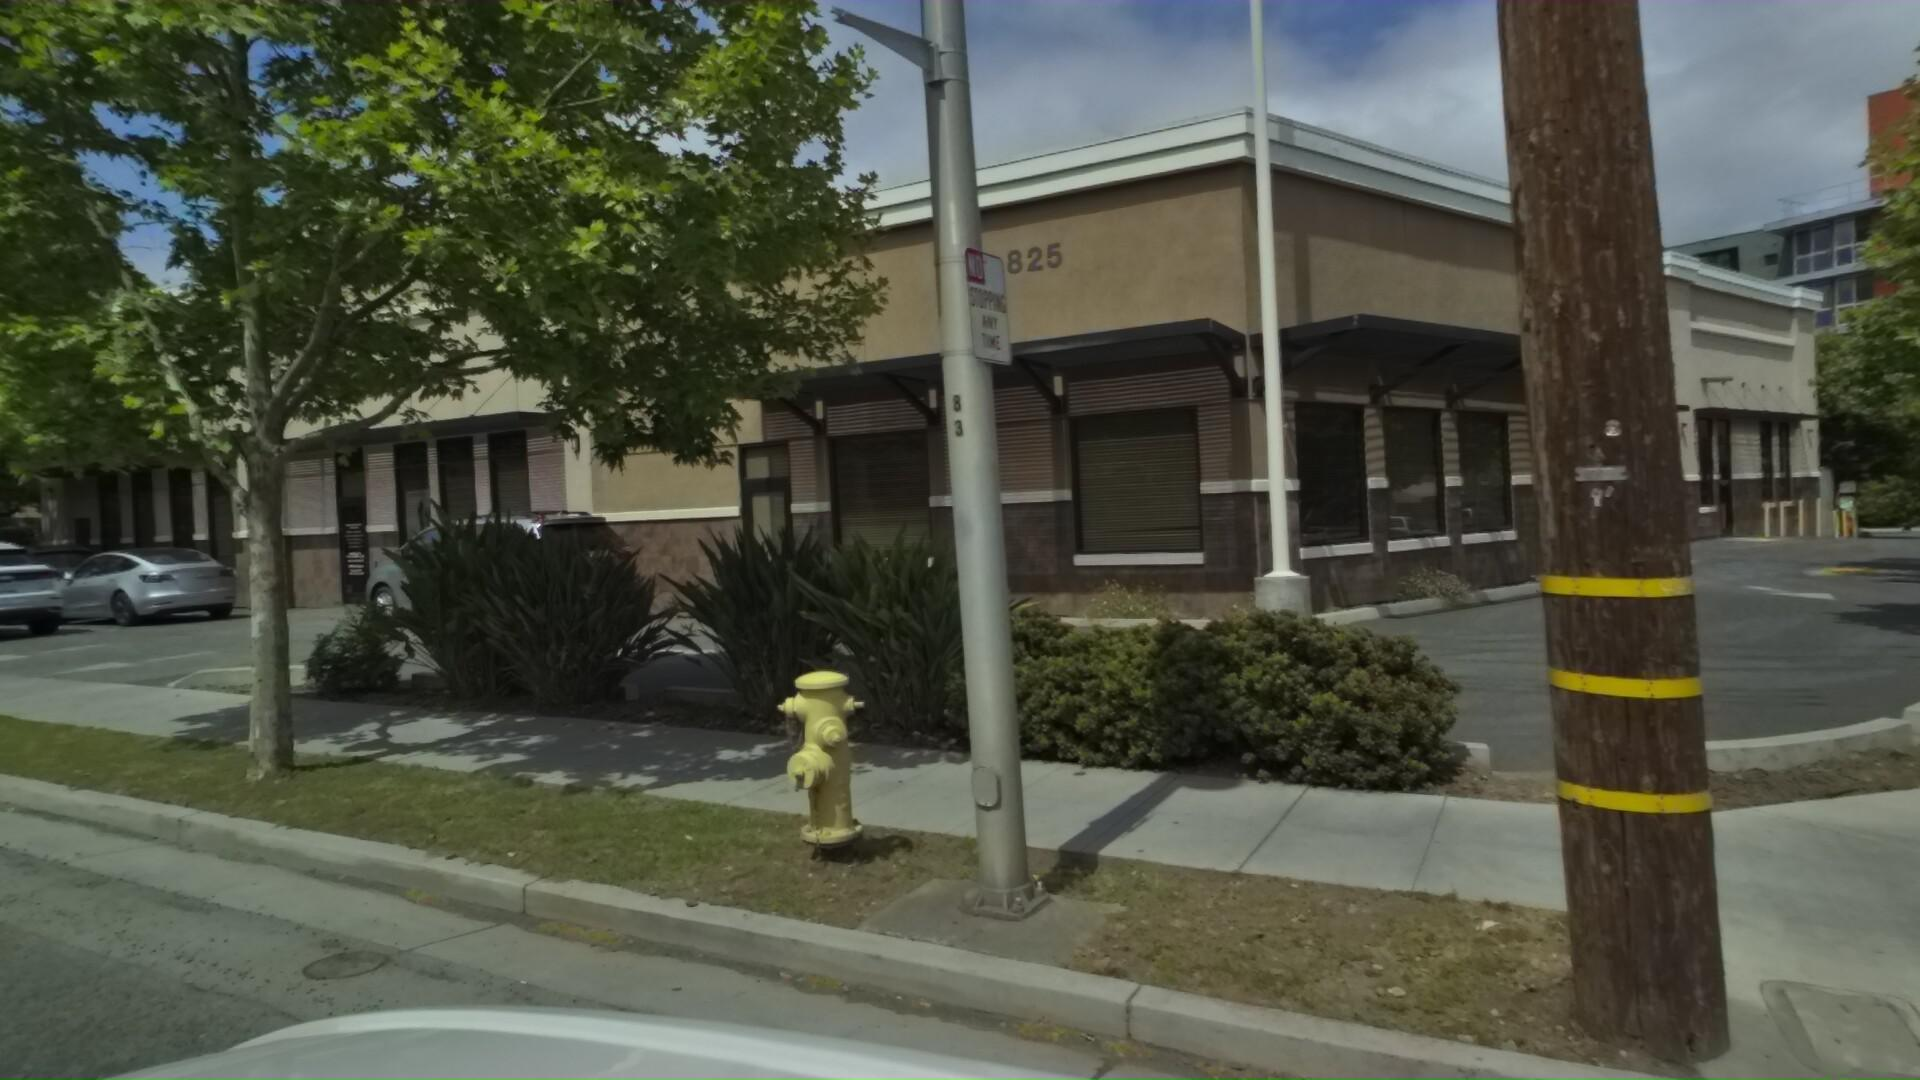car: (355, 508, 666, 637), (34, 535, 264, 629), (0, 535, 128, 624), (0, 531, 88, 649)
